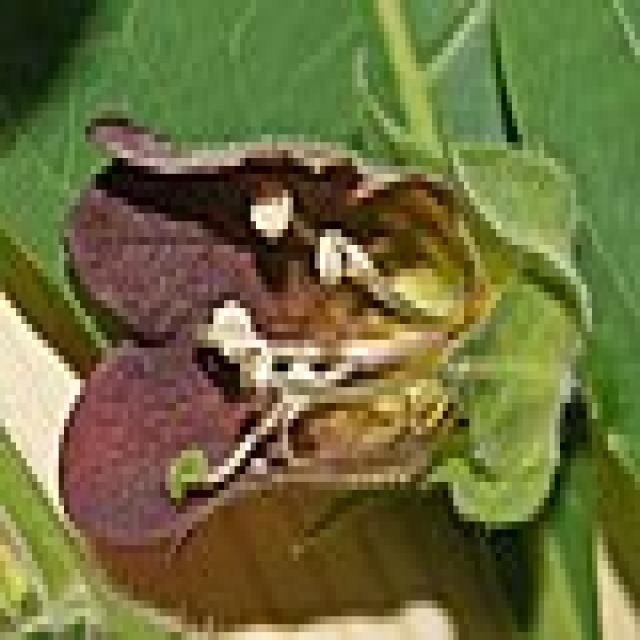Belladonna: (71, 48, 562, 558)
